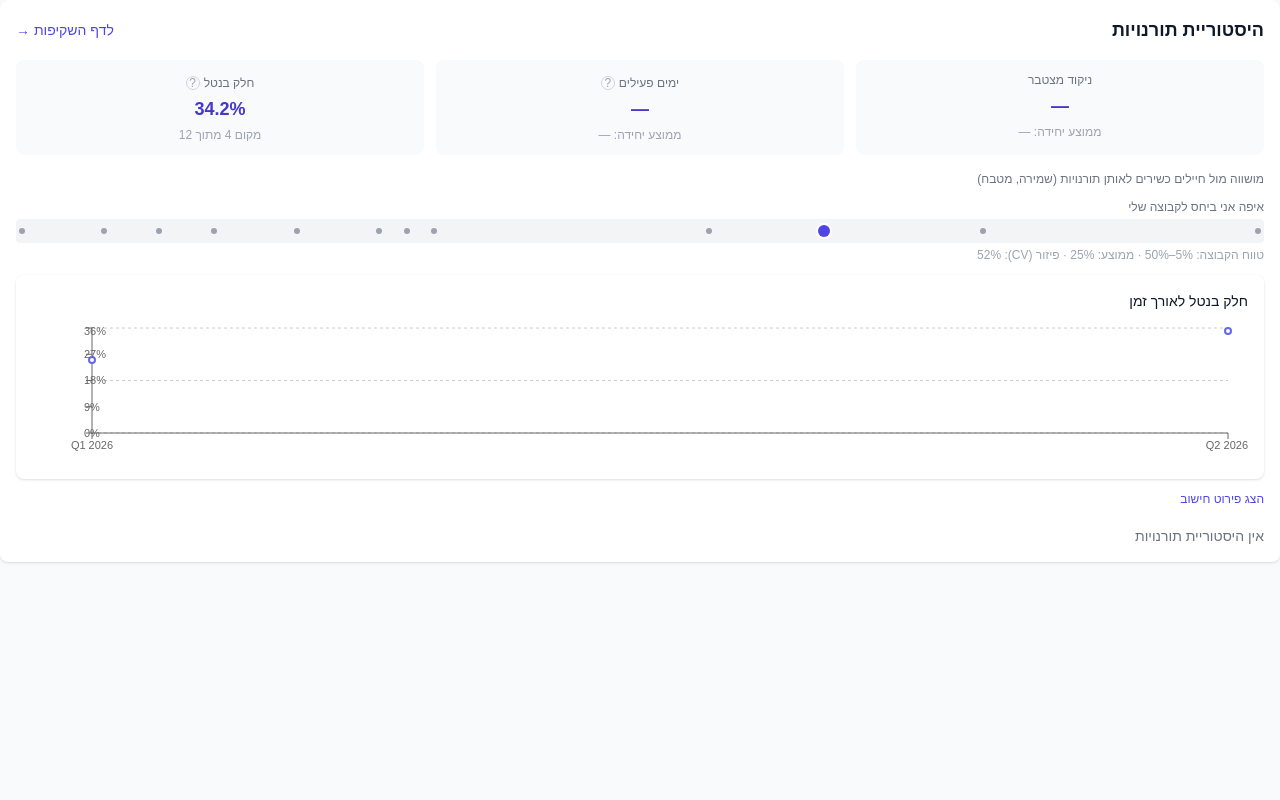
Test: DutyHistoryWidget › opens the burden-share breakdown modal when the detail button is clicked
The image size is (1280, 800).
Expected: the text "פירוט חישוב חלק בנטל" is not shown
Click the button "הצג פירוט חישוב" at (1222, 499), box 1180,491 -> 1264,507
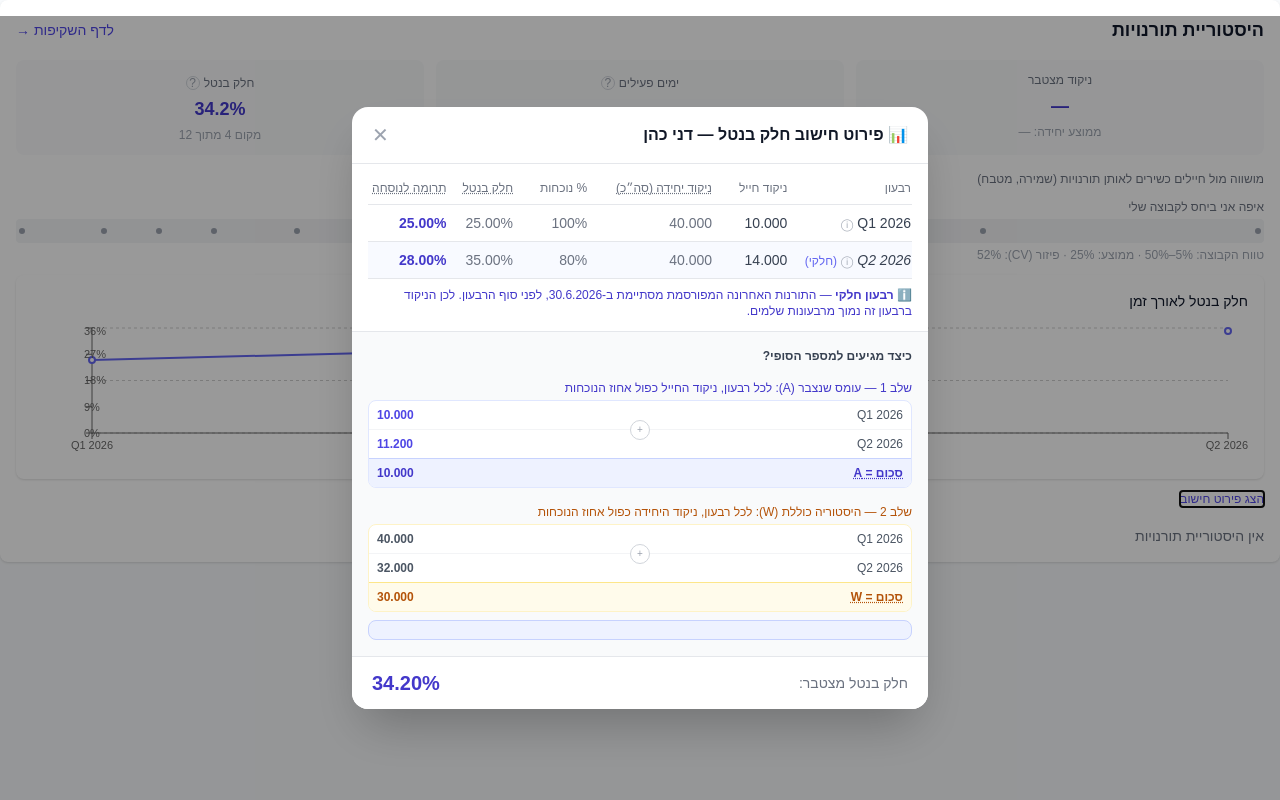
Result: the heading "📊 פירוט חישוב חלק בנטל — דני כהן" is shown at 643,123 -> 908,147
